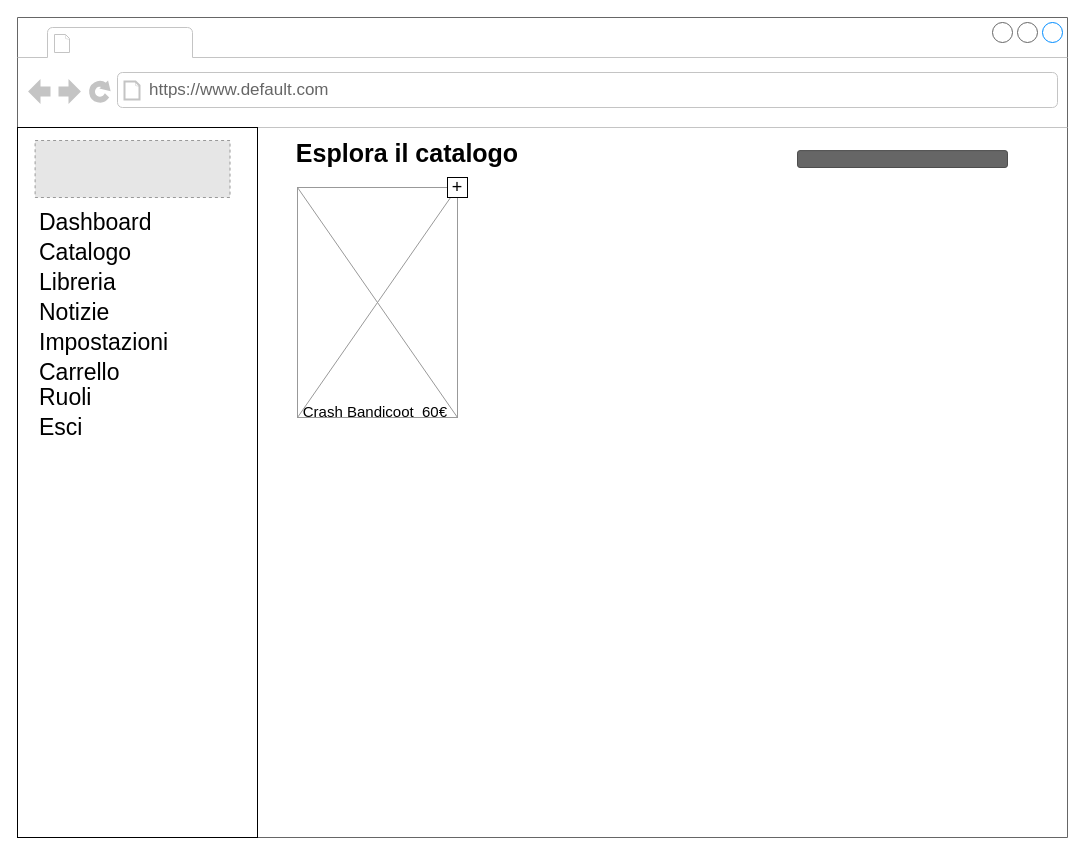
This 1085x855 diagram has some shape labels left out. Grey dashed boxes stand in for pictures. The shapes that lost their labels are listed below. From the top down, each one's centre as x and y in pixels, then its label:
At [132,42]: "Page 1".
At [902,159]: "Crash Bandicoot".
